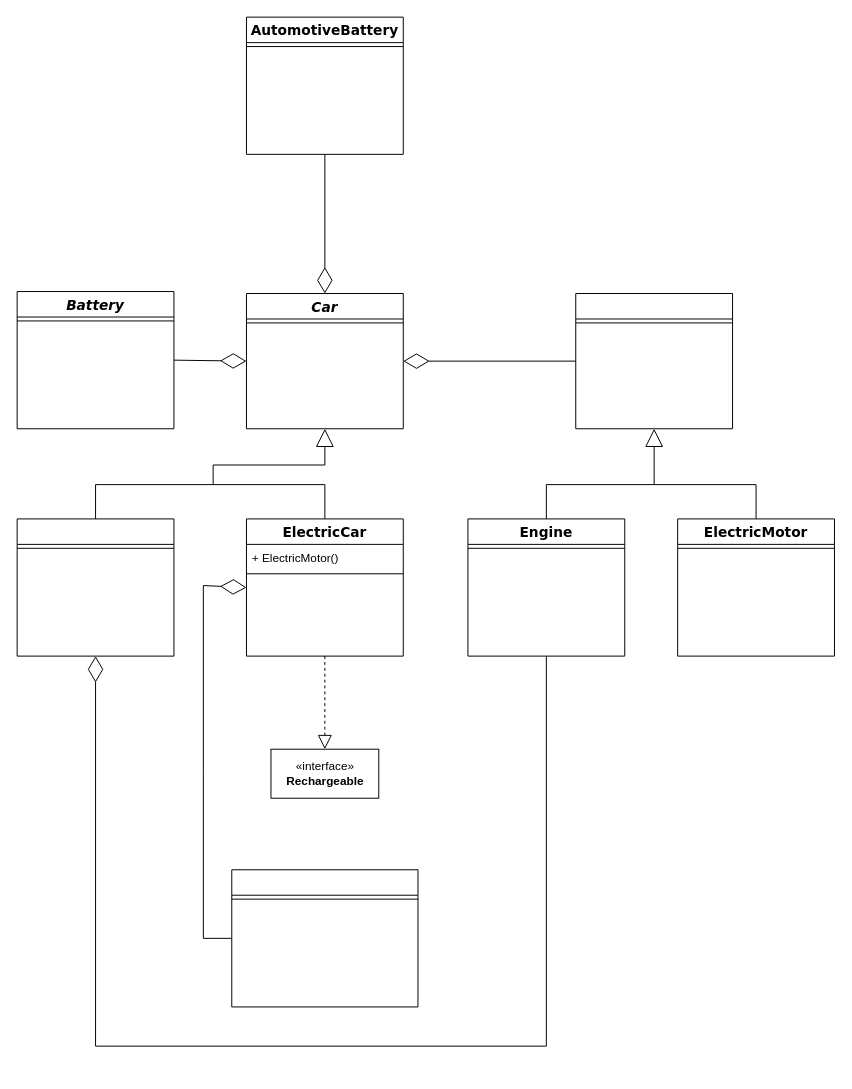
Some shapes in this 852 by 1089 pixel diagram are drawn without their labels. Each missing label, with the box of its shape:
CombustionCar: (16, 518, 174, 656)
ElectricVehicleBattery: (231, 869, 418, 1007)
Motor: (575, 293, 733, 429)
